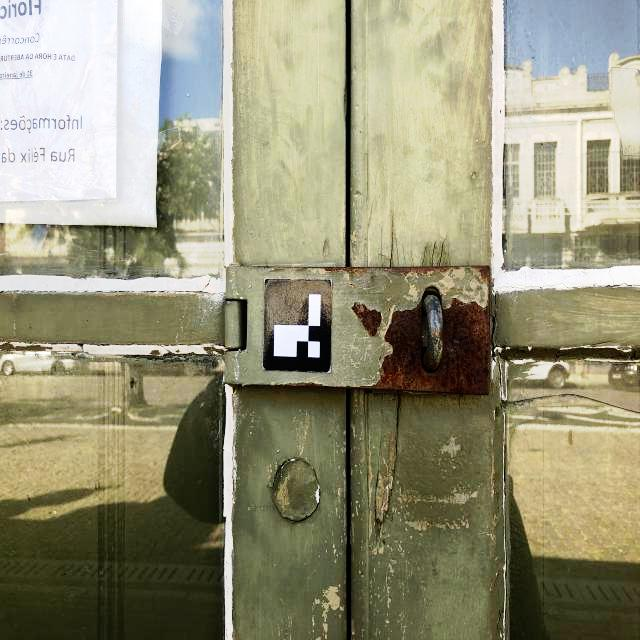Corrosion: (373, 266, 490, 395), (257, 266, 459, 276), (352, 302, 382, 336), (275, 382, 374, 389), (423, 351, 442, 370), (431, 328, 443, 340), (424, 302, 427, 312)
